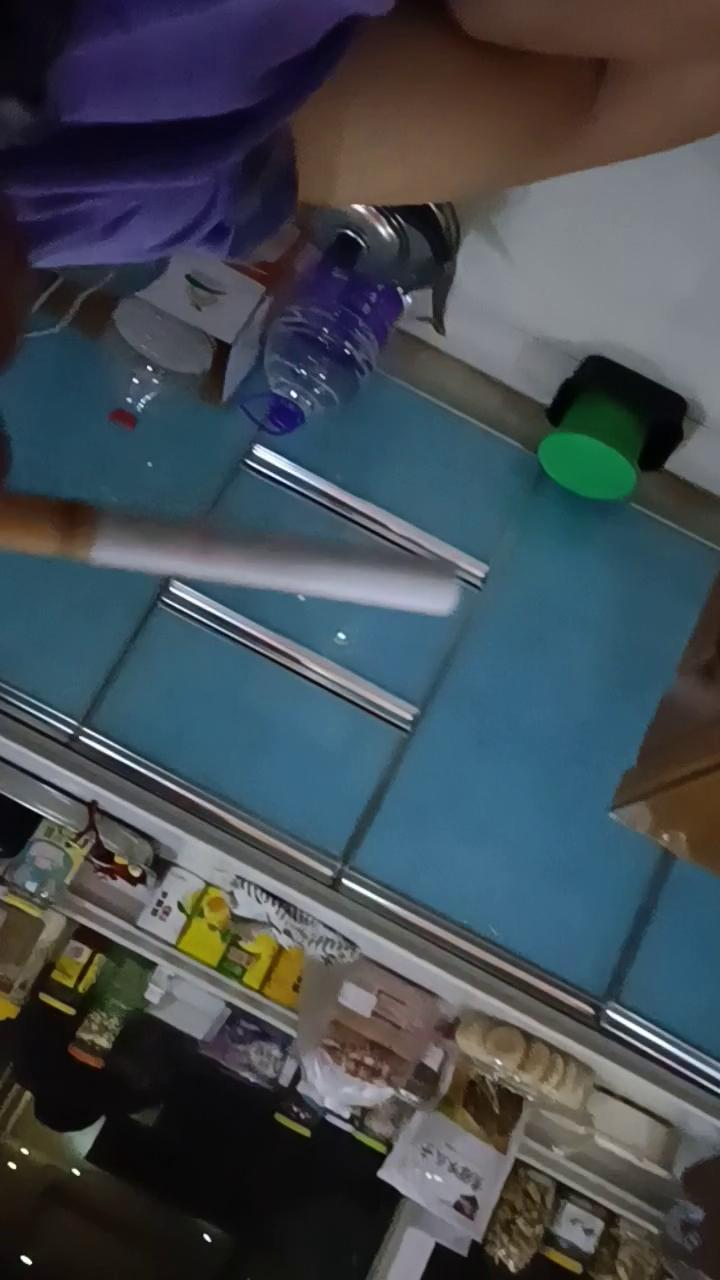smoke: (0, 495, 461, 619)
